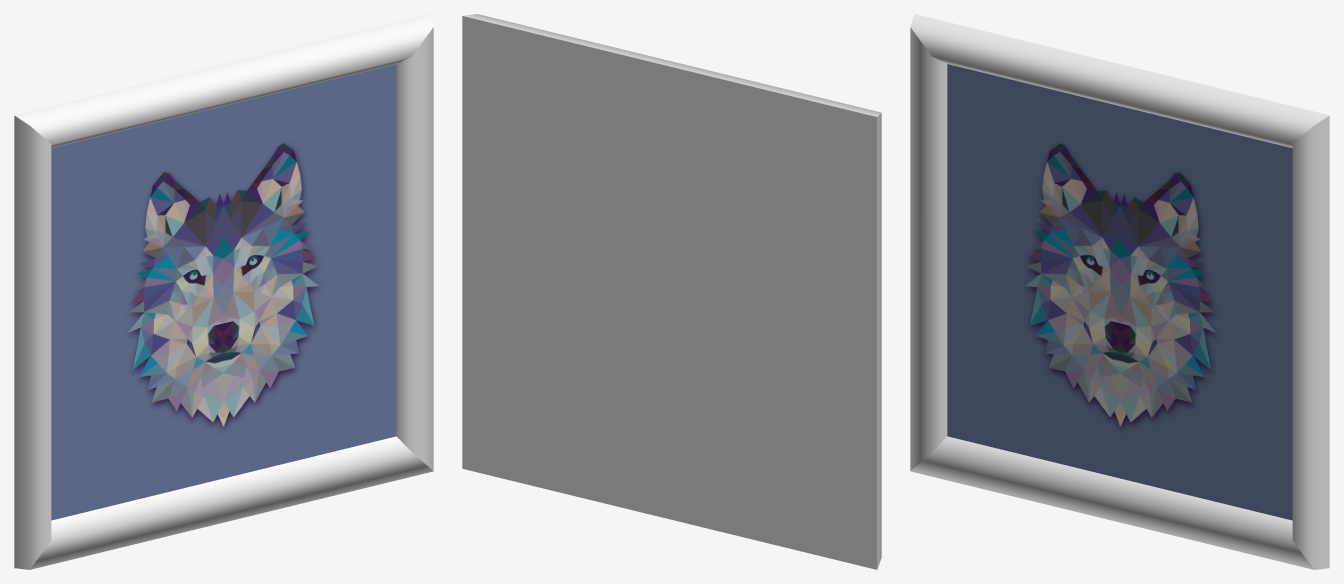
The model's file is picture_017.fbx.
The picture shows the model from 3 angles, left to right: view 1: azimuth 30°, elevation 25°; view 2: azimuth 150°, elevation 25°; view 3: azimuth 330°, elevation 25°; orthographic projection.
Visible parts, largest first — view 1: picture_017; view 2: picture_017; view 3: picture_017.
Part boxes in pixels (left/top/right/bottom): picture_017: left=14, top=14, right=433, bottom=569; picture_017: left=462, top=14, right=881, bottom=569; picture_017: left=910, top=14, right=1329, bottom=569.
Bounding box in the file's own units: 71.59 × 2.98 × 74.63.
